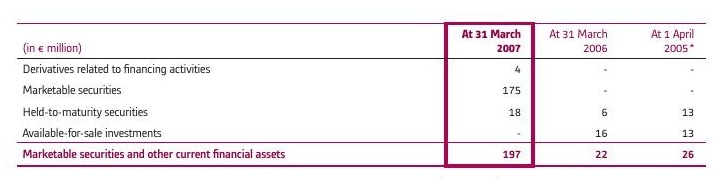table: (0, 0, 723, 178)
